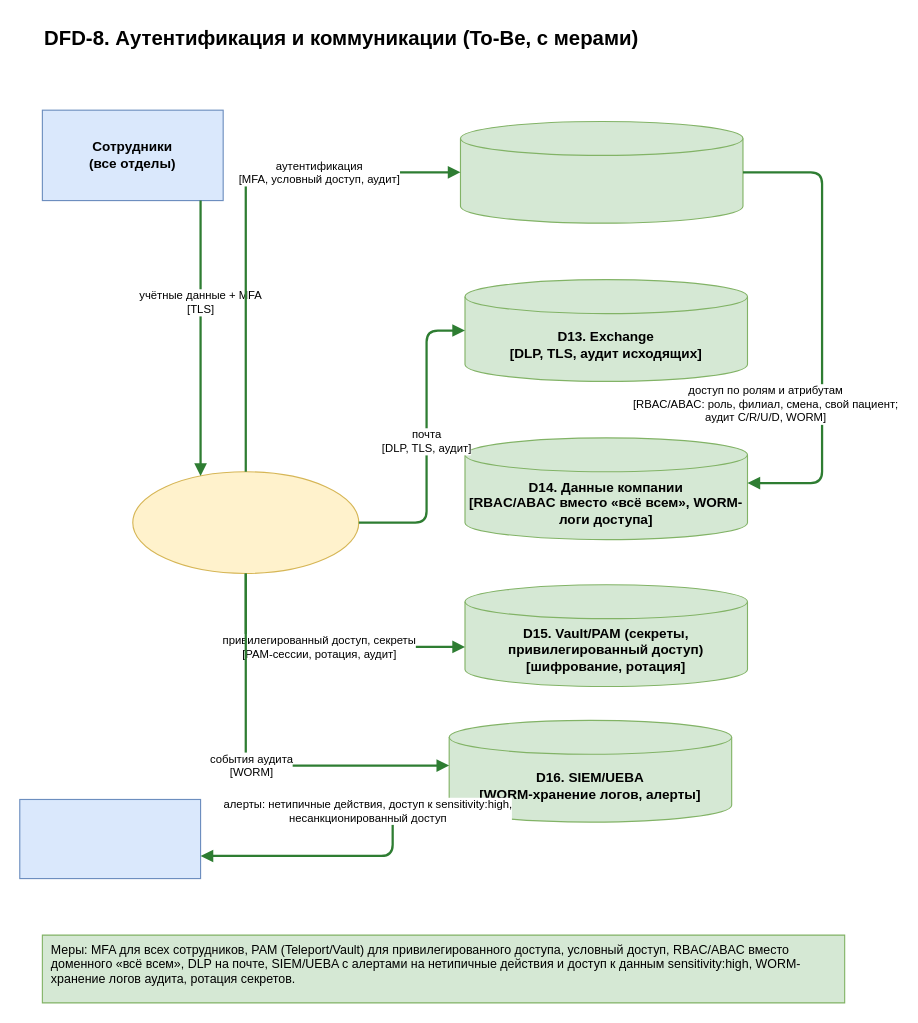
Some shapes in this 918 by 1023 pixel diagram are drawn without their labels. The shapes that lost their labels are listed below. From the top down, each one's centre as x and y in pixels, then its label:
At (601,171): "D12. AD/LDAP/DNS/DHCP [MFA, условный доступ, аудит]".
At (245,522): "P8. Аутентификация и коммуникации [MFA, аудит]".
At (110,838): "Команда мониторинга (SOC/IT)".
